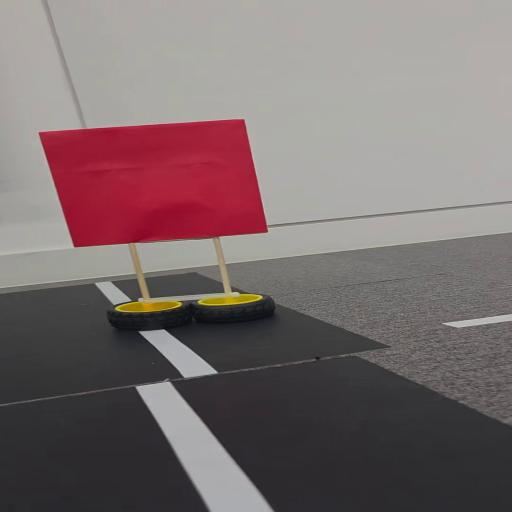Sign_A: (35, 113, 295, 333)
